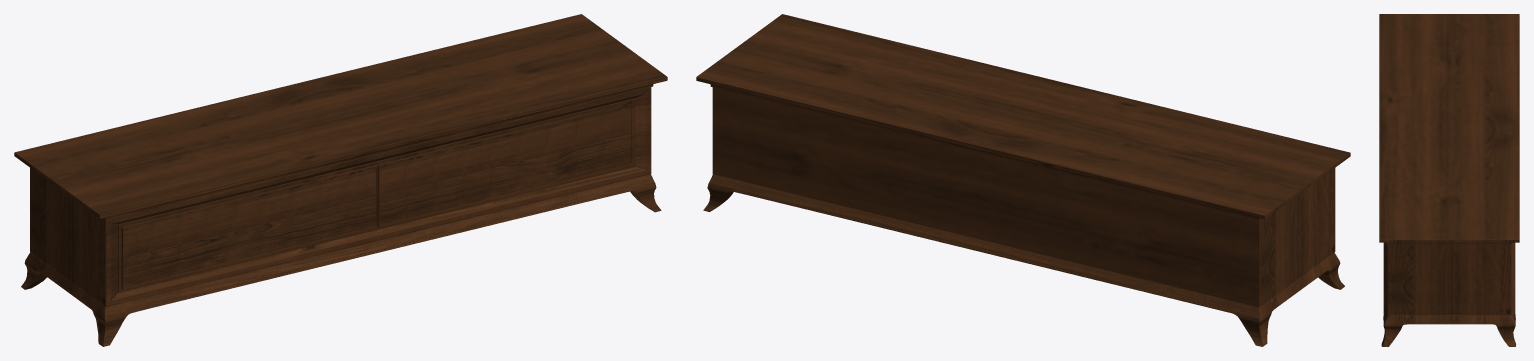
The model's file is raw_model.obj.
3 renders of one model, left to right at view 1: azimuth 30°, elevation 25°; view 2: azimuth 150°, elevation 25°; view 3: azimuth 270°, elevation 25°, orthographic. The views are drawn at different scales.
Visible parts, largest first — view 1: solid_001; view 2: solid_001; view 3: solid_001.
Part boxes in pixels (<box>): solid_001: <box>14,14,667,346</box>; solid_001: <box>696,14,1350,346</box>; solid_001: <box>1379,14,1519,346</box>.
Bounding box in the file's own units: 2.13 × 0.4797 × 0.5576.
Materials: 1 (1 with a texture image).
